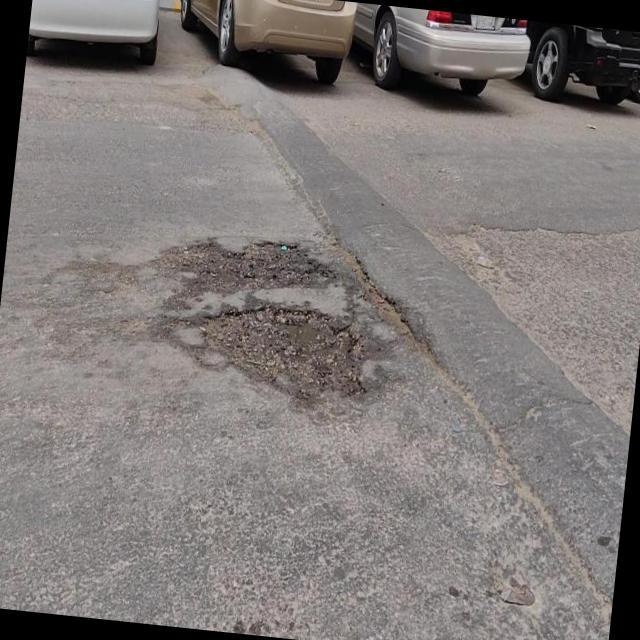Pothole: (207, 305, 358, 398), (175, 237, 317, 294)
